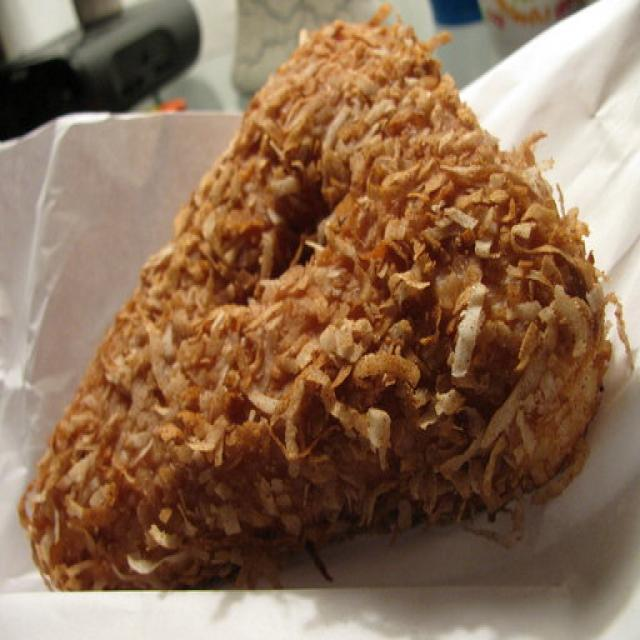Donuts: (34, 10, 619, 632)
